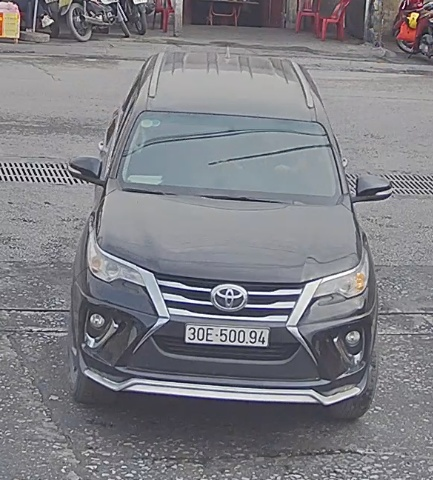vehicle plate: (183, 322, 277, 352)
